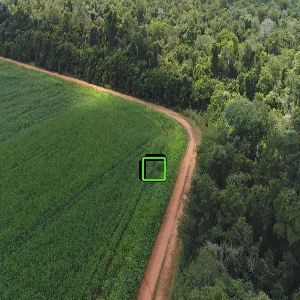square: (139, 155, 167, 183)
